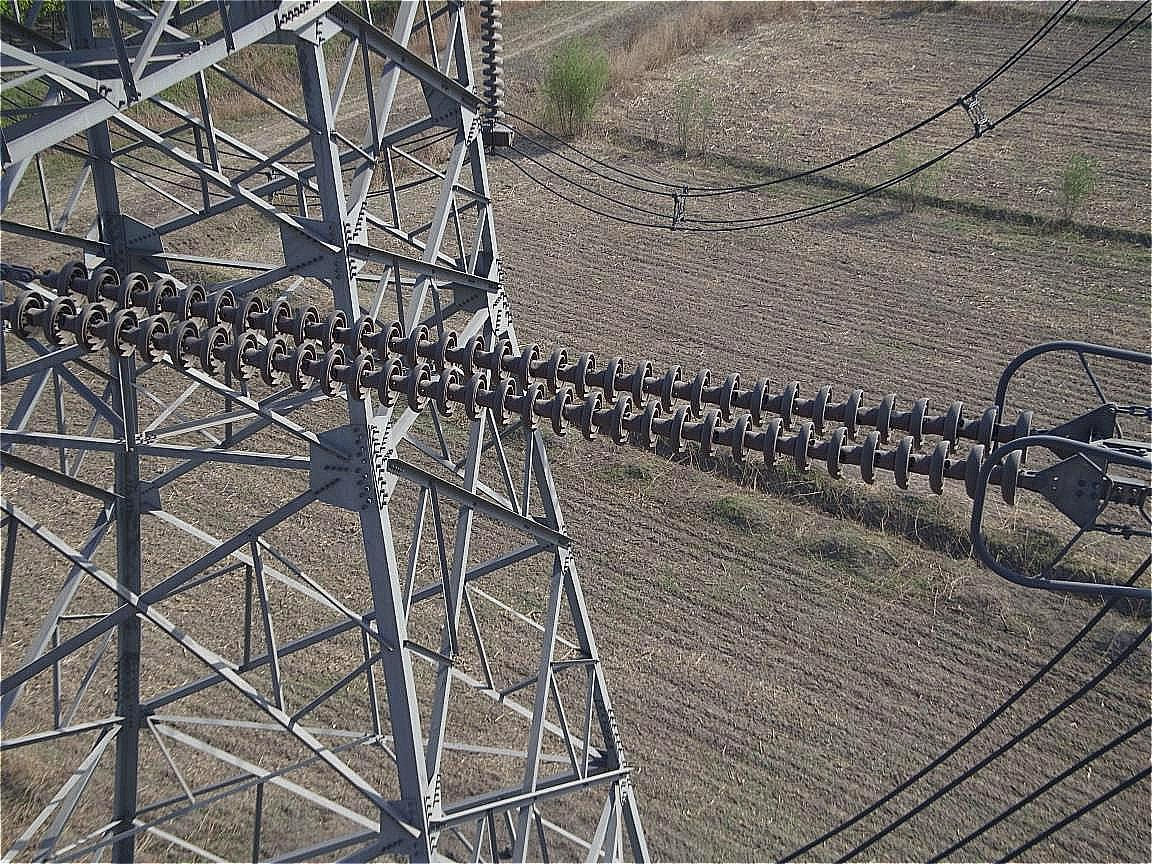insultor1: (13, 247, 1037, 507)
